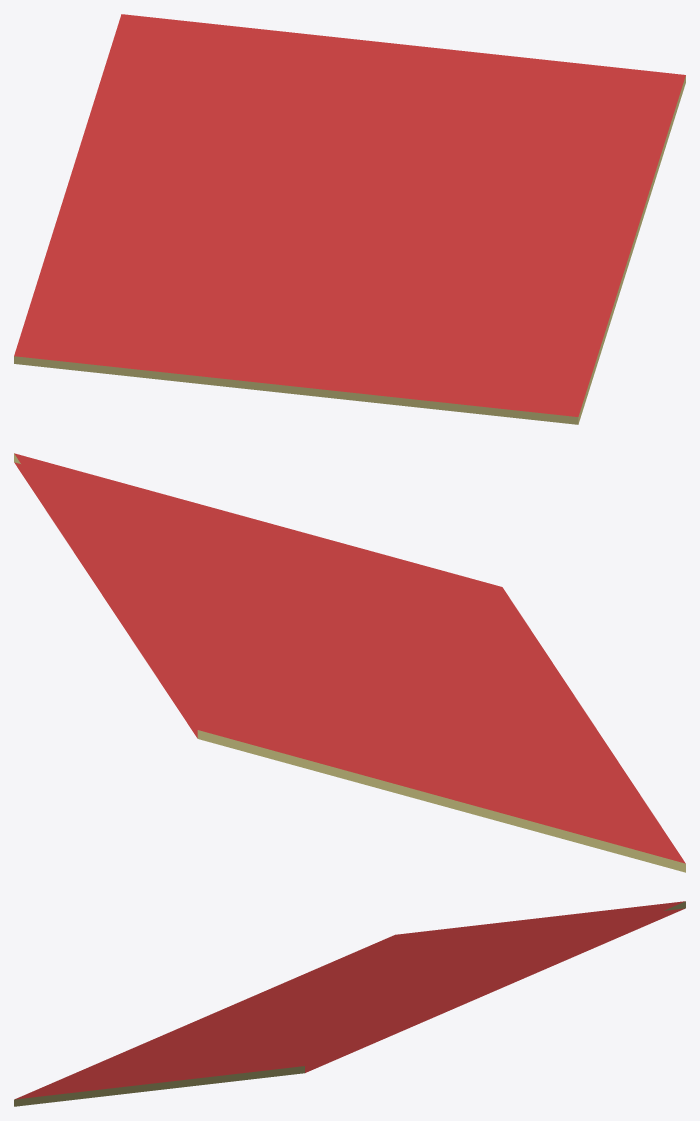
3 views of the same model, one above another, from view 1: azimuth 30°, elevation 25°; view 2: azimuth 150°, elevation 25°; view 3: azimuth 270°, elevation 25° (orthographic). The views are drawn at different scales.
Size of the model in its own units: 8.46 by 8.43 by 2.23.
